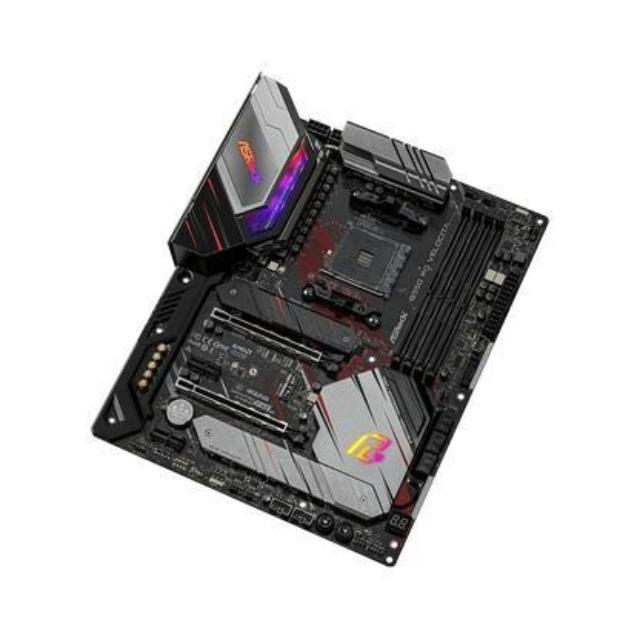Mainboard: (77, 60, 549, 577)
